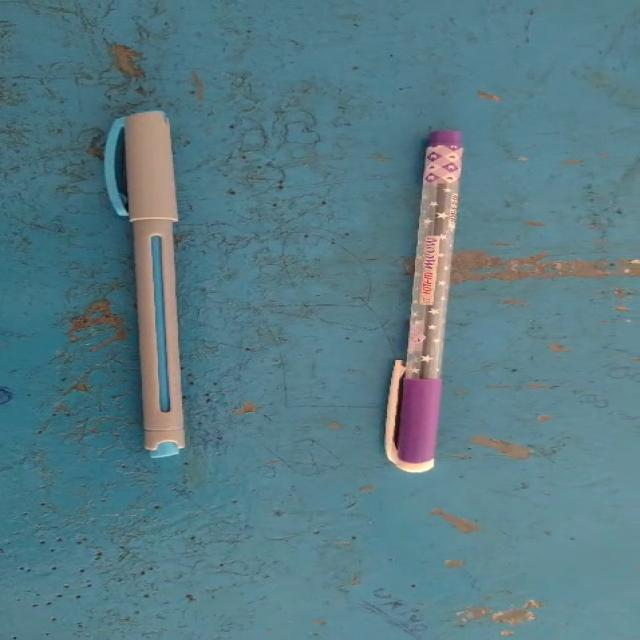pen: (33, 55, 262, 556), (361, 121, 516, 504)
